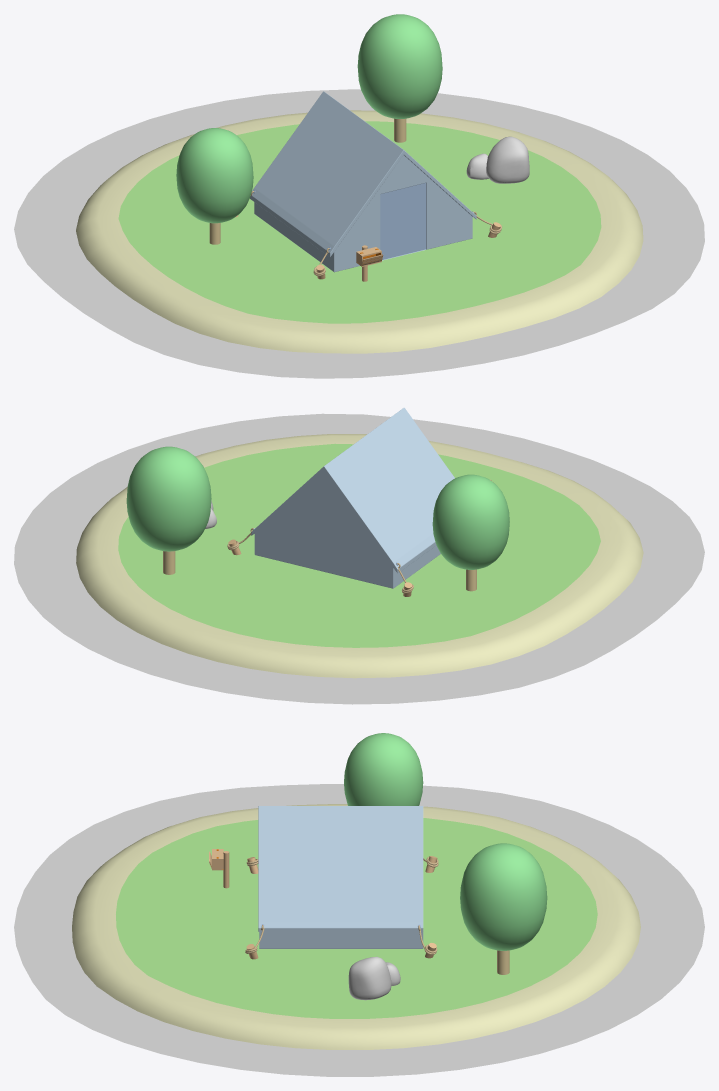
File: Island02.glb
3 renders of one model, top to bottom at view 1: azimuth 30°, elevation 25°; view 2: azimuth 150°, elevation 25°; view 3: azimuth 270°, elevation 25°, orthographic. The views are drawn at different scales.
Parts seen in each view (by area): view 1: Land, OuterSea, Tent, Tree, Rock; view 2: Land, OuterSea, Tent, Tree; view 3: Land, OuterSea, Tent, Tree, Rock, Mail.
Part boxes in pixels (x1,y1,x2,y2): Land: (76,110,643,353); OuterSea: (14,89,704,378); Tent: (250,91,476,272); Tree: (176,14,442,244); Rock: (466,136,529,183); Land: (76,434,643,678); OuterSea: (14,413,704,704); Tent: (251,407,454,588); Tree: (126,446,509,591); Land: (72,804,640,1049); OuterSea: (14,784,704,1076); Tent: (258,806,423,948); Tree: (344,733,547,974); Rock: (348,956,400,1000); Mail: (209,849,229,888).
Bounding box in the file's own units: 4.22 × 0.9643 × 4.21.
